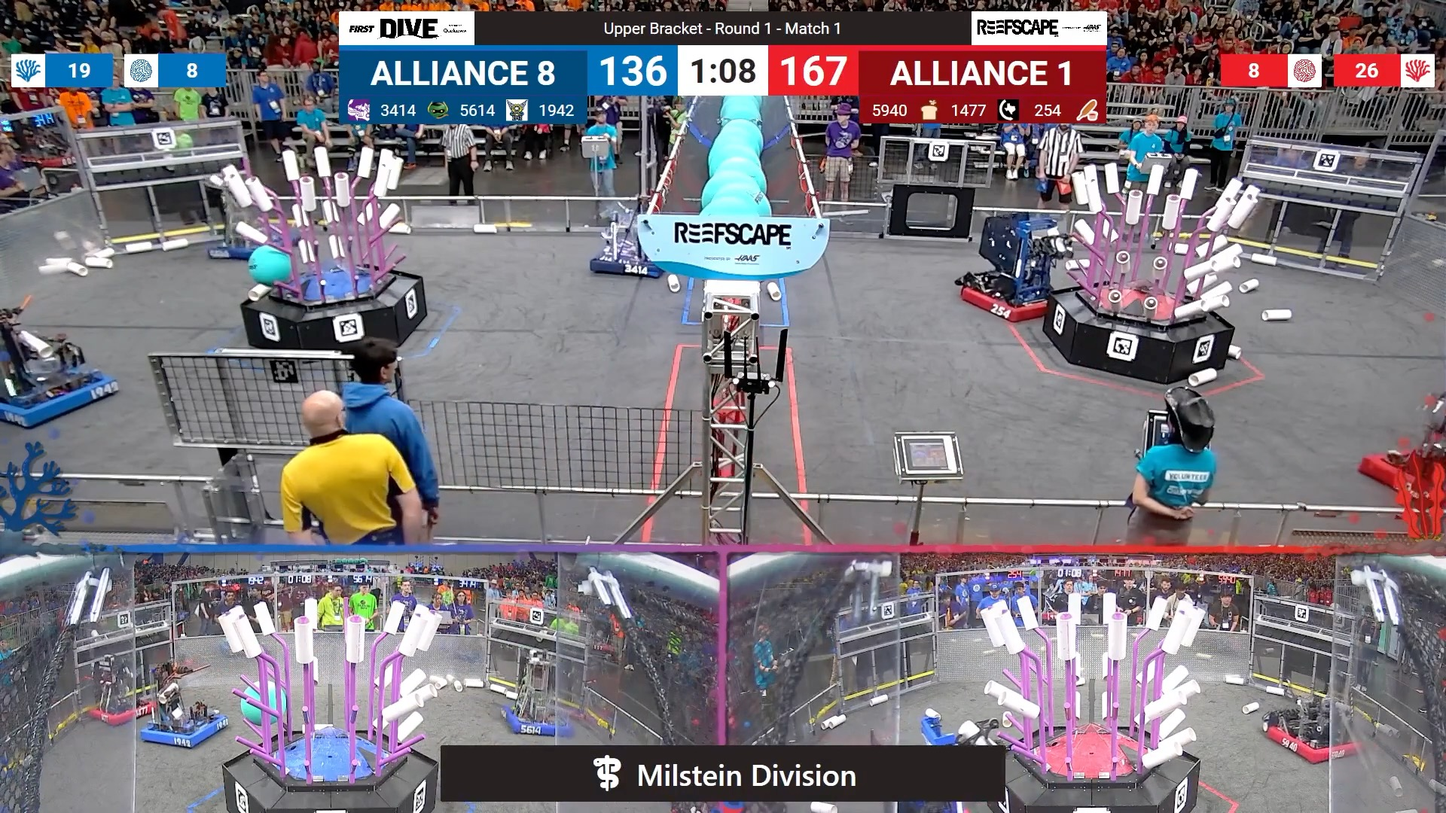bumpers: (0, 366, 124, 436), (1254, 712, 1366, 766), (1362, 431, 1446, 498), (954, 279, 1067, 326), (128, 708, 237, 754), (588, 239, 674, 280), (494, 702, 576, 741), (83, 697, 163, 729)
